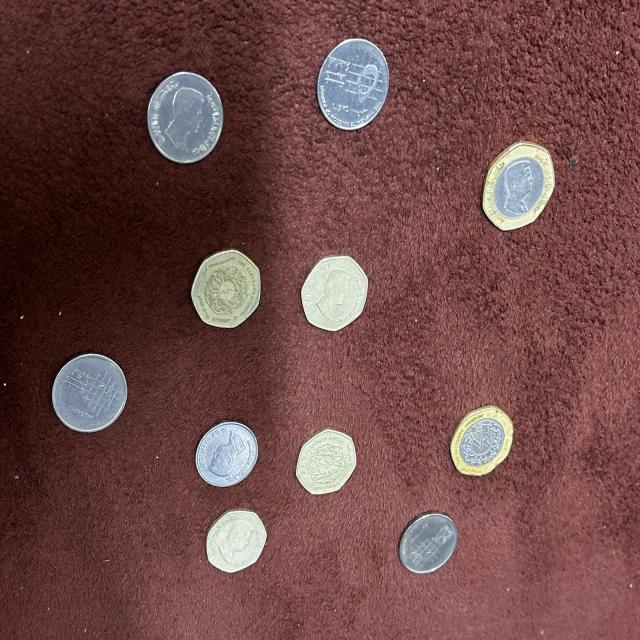10-coins: (51, 354, 128, 434), (399, 512, 458, 574)
25-coins: (190, 250, 263, 329), (300, 256, 372, 331), (204, 508, 268, 574), (295, 429, 357, 495)
5-coins: (146, 71, 226, 163), (316, 37, 390, 132), (195, 420, 259, 486)
50-coins: (481, 139, 555, 232), (450, 406, 514, 476)
